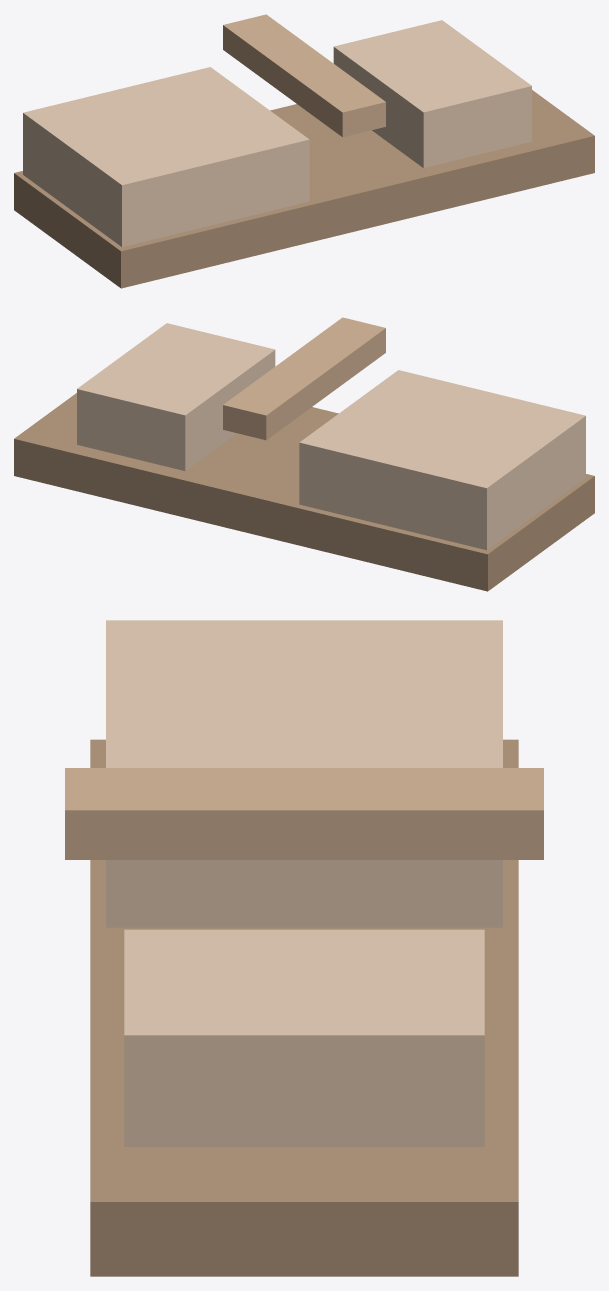
The picture shows the model from 3 angles, top to bottom: view 1: azimuth 30°, elevation 25°; view 2: azimuth 150°, elevation 25°; view 3: azimuth 270°, elevation 25°; orthographic projection. The views are drawn at different scales.
Size of the model in its own units: 2.4 by 0.62 by 1.05.
